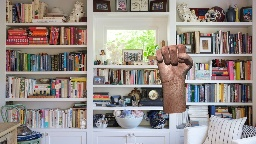Pugno: (152, 43, 194, 82)
